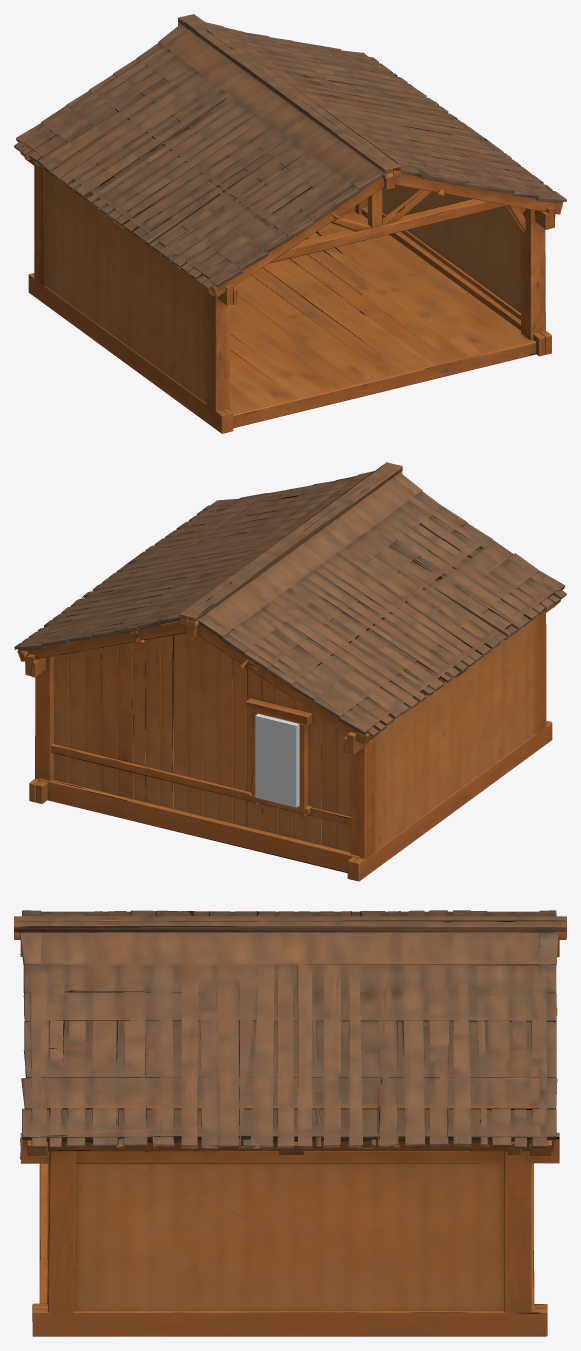
3 renders of one model, top to bottom at view 1: azimuth 30°, elevation 25°; view 2: azimuth 150°, elevation 25°; view 3: azimuth 270°, elevation 25°, orthographic. The views are drawn at different scales.
Parts seen in each view (by area): view 1: geometry_0; view 2: geometry_0, Cube; view 3: geometry_0.
Boxes of the visible parts, <box> form: geometry_0: <box>14,14,566,433</box>; geometry_0: <box>14,462,566,881</box>; Cube: <box>255,713,299,807</box>; geometry_0: <box>14,910,566,1336</box>.
Bounding box in the file's own units: 19.63 × 12 × 19.51.
1 material, 1 textured.
